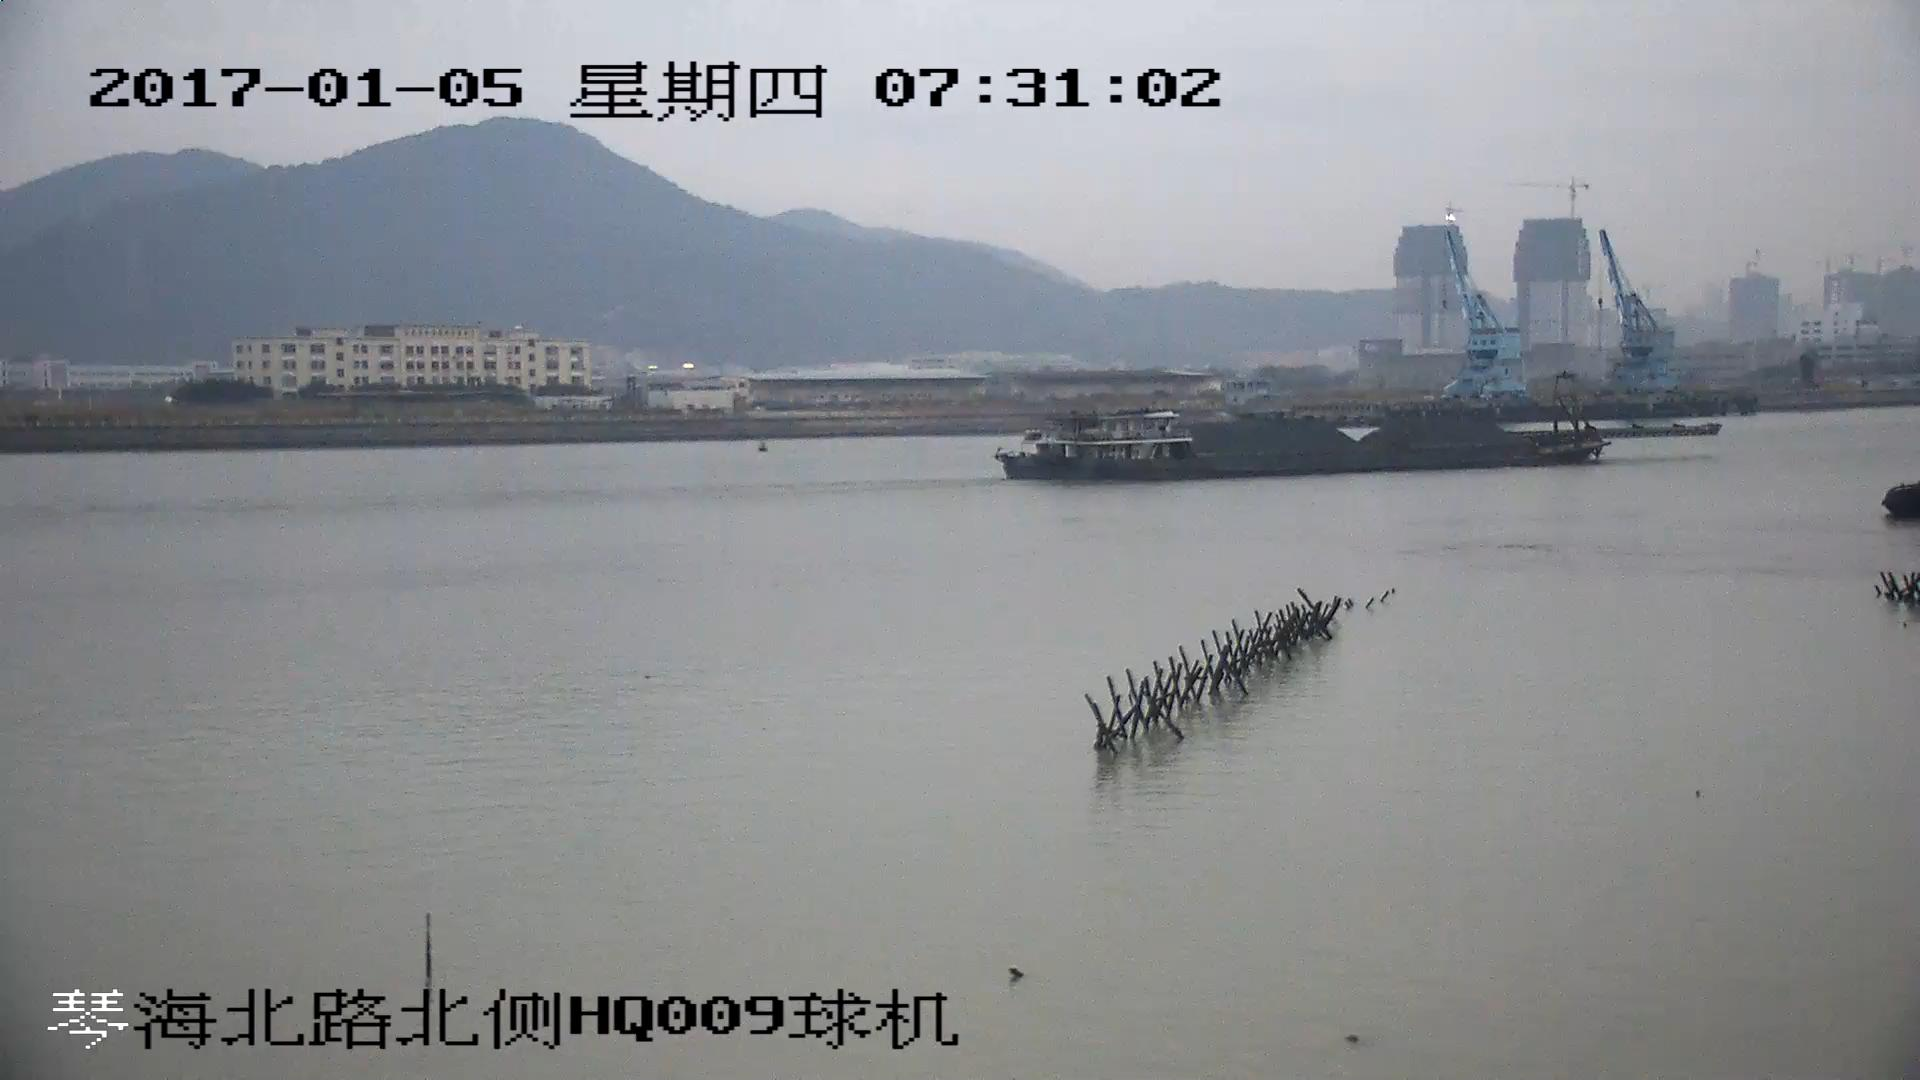ore carrier: (996, 382, 1716, 468)
